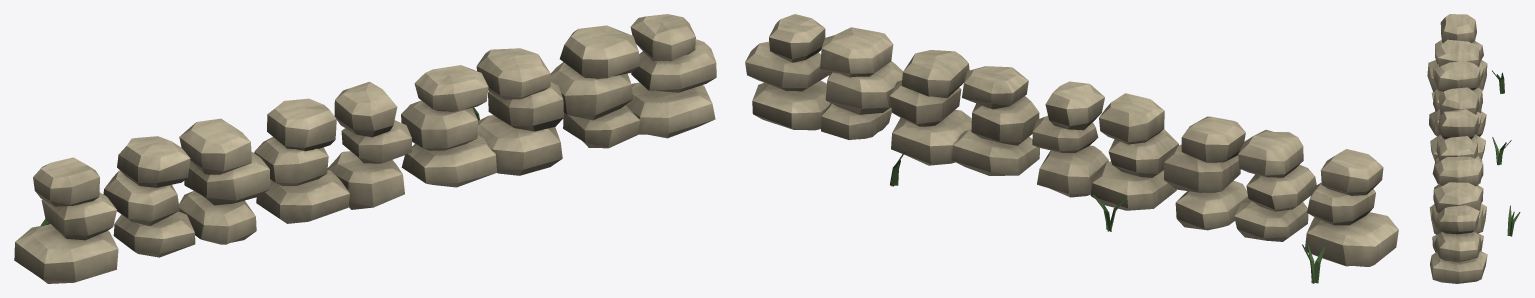
The model's file is wall_run.glb.
3 renders of one model, left to right at view 1: azimuth 30°, elevation 25°; view 2: azimuth 150°, elevation 25°; view 3: azimuth 270°, elevation 25°, orthographic. The views are drawn at different scales.
Parts seen in each view (by area): view 1: WallRun; view 2: WallRun, v_wall_run_f_grass_deep; view 3: WallRun, v_wall_run_f_grass_deep.
Part boxes in pixels (x1,y1,x2,y2): WallRun: (14, 14, 716, 283); WallRun: (745, 14, 1398, 266); v_wall_run_f_grass_deep: (890, 150, 1325, 283); WallRun: (1427, 14, 1487, 283); v_wall_run_f_grass_deep: (1492, 70, 1520, 236).
Size of the model in its own units: 4.59 by 0.7324 by 0.827.
2 materials, 1 textured.
